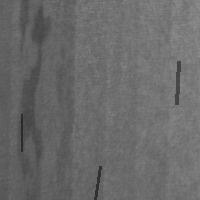inclusion: (9, 1, 51, 180), (51, 1, 79, 198), (93, 164, 102, 200), (174, 59, 180, 106), (19, 112, 23, 153)
